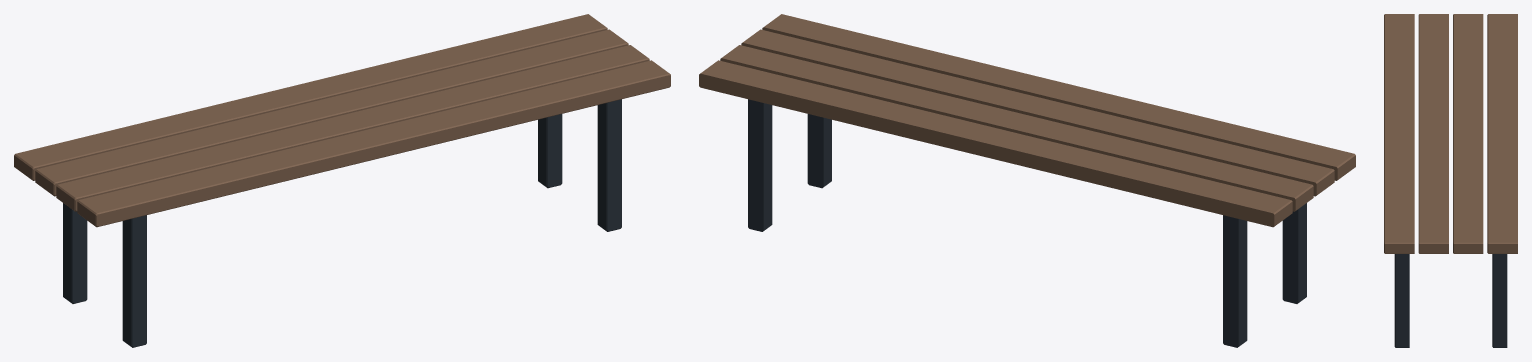
File: R-22_crew_bench.glb
3 views of the same model, side by side, from view 1: azimuth 30°, elevation 25°; view 2: azimuth 150°, elevation 25°; view 3: azimuth 270°, elevation 25° (orthographic). The views are drawn at different scales.
Visible parts, largest first — view 1: R-22_crew_bench; view 2: R-22_crew_bench; view 3: R-22_crew_bench.
Part boxes in pixels (<box>): R-22_crew_bench: <box>14,14,670,347</box>; R-22_crew_bench: <box>699,14,1355,347</box>; R-22_crew_bench: <box>1384,14,1517,347</box>.
Bounding box in the file's own units: 1.89 × 0.47 × 0.466.
